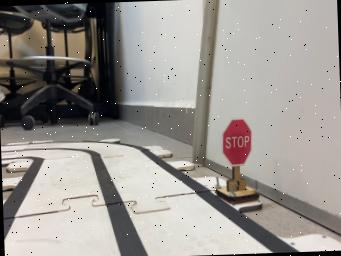stop: (215, 118, 259, 202), (215, 118, 259, 202), (215, 118, 259, 202), (215, 118, 259, 202), (215, 118, 259, 202), (215, 118, 259, 202)
street: (1, 141, 298, 256), (1, 141, 298, 256), (1, 141, 298, 256), (1, 141, 298, 256), (1, 141, 298, 256), (1, 141, 298, 256)
